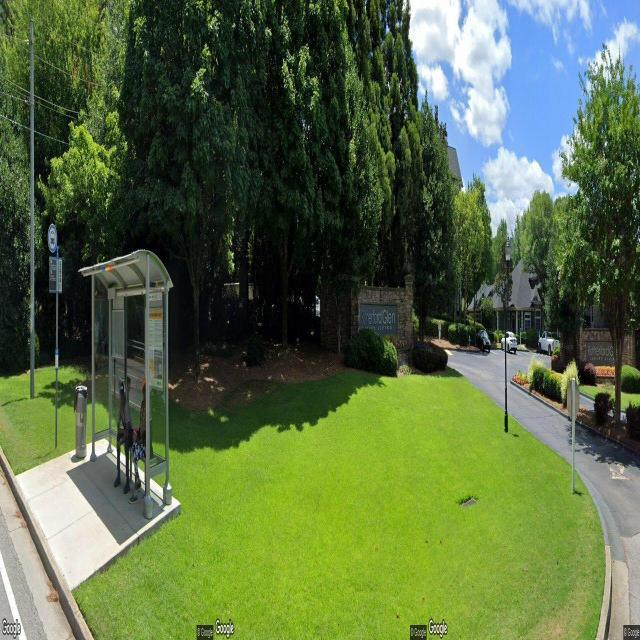seating: (118, 434, 158, 500)
shelter: (80, 252, 174, 510)
trash_can: (74, 383, 88, 461)
